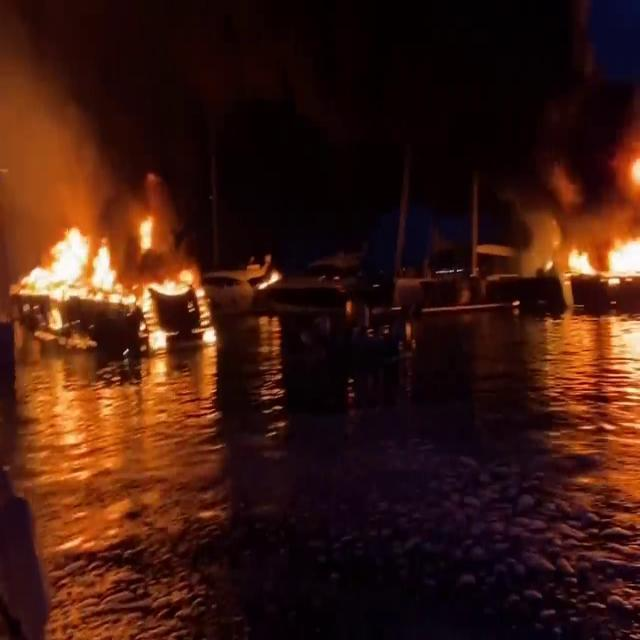Fire: (546, 139, 640, 291), (17, 216, 135, 310)
Smoke: (0, 0, 150, 228)
